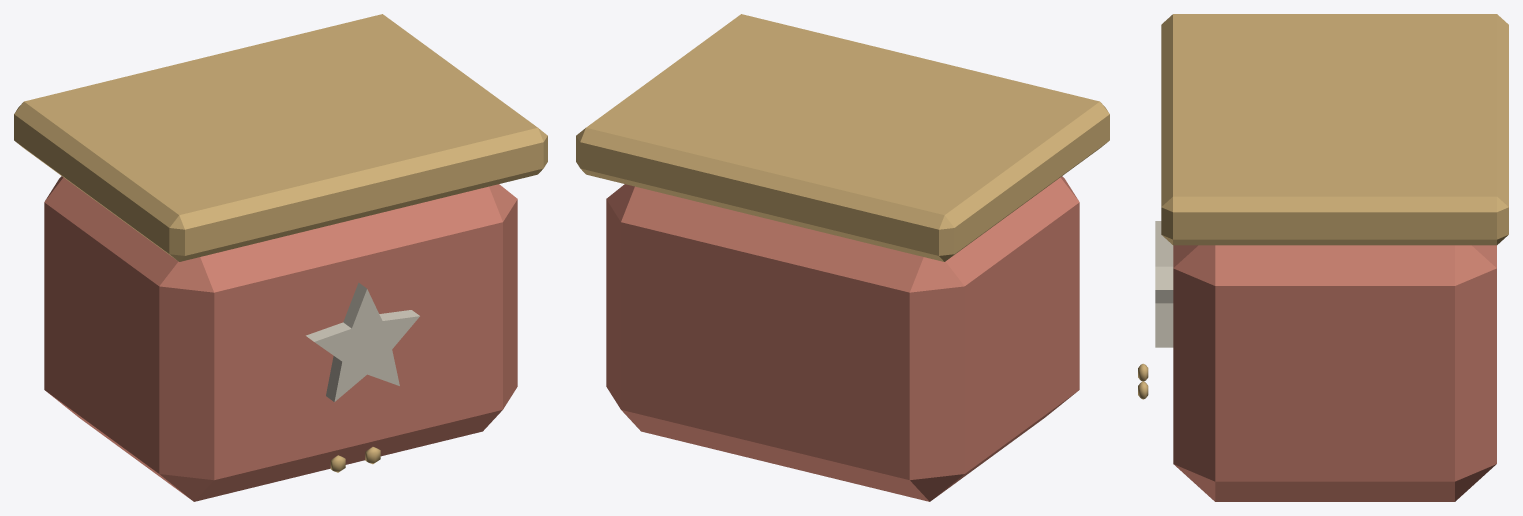
The picture shows the model from 3 angles, left to right: view 1: azimuth 30°, elevation 25°; view 2: azimuth 150°, elevation 25°; view 3: azimuth 270°, elevation 25°; orthographic projection. The views are drawn at different scales.
Visible parts, largest first — view 1: g_s49; view 2: g_s49; view 3: g_s49.
Part boxes in pixels (box(x1,y1,x2,y2)): g_s49: box(14, 14, 547, 501); g_s49: box(576, 14, 1109, 501); g_s49: box(1138, 14, 1508, 501).
Size of the model in its own units: 0.38 by 0.2975 by 0.3093.
